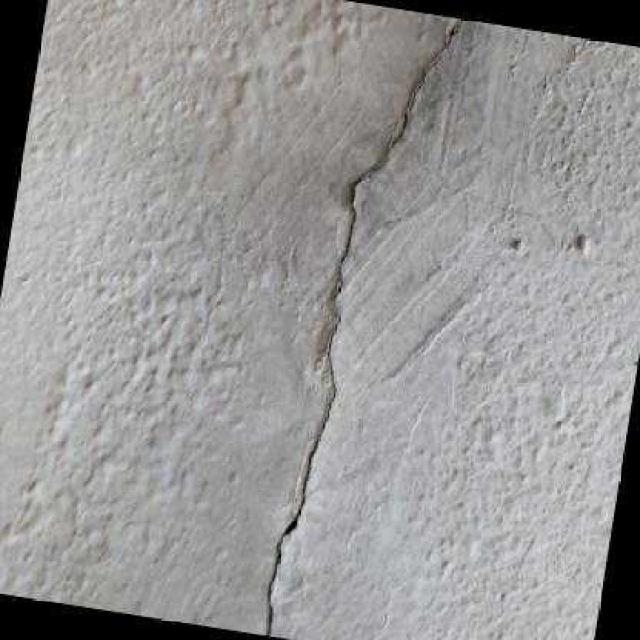D00: (263, 17, 460, 636)
